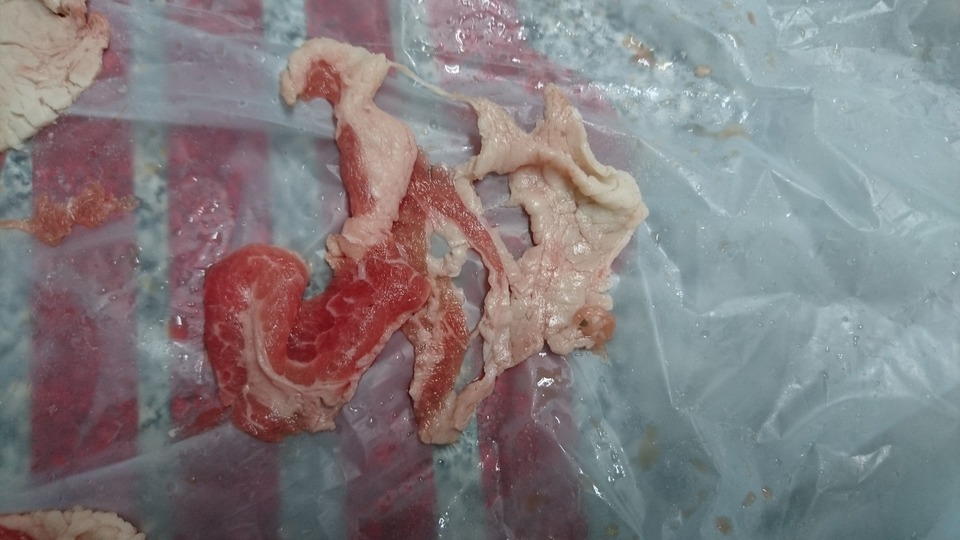restructured meat: (205, 37, 642, 438)
